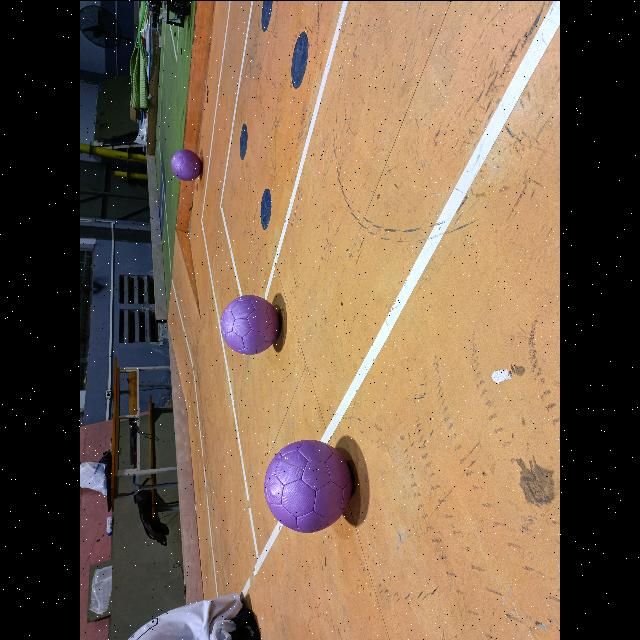P: (264, 439, 352, 531), (220, 295, 280, 353), (168, 150, 200, 180)
